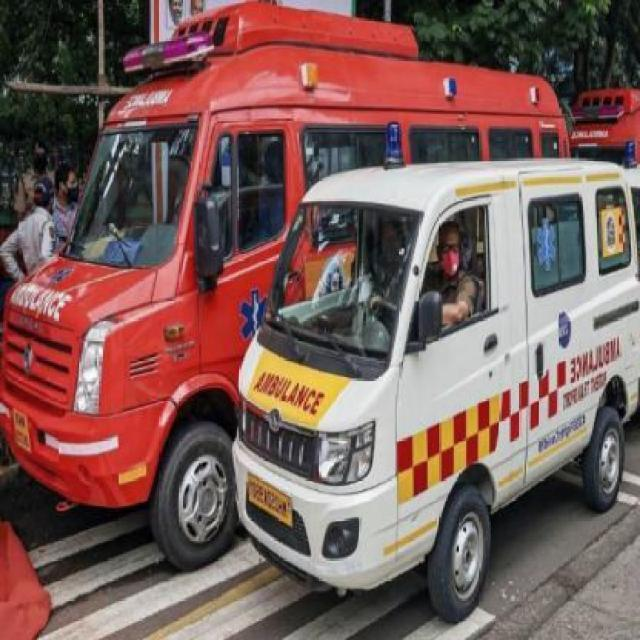emergency: (0, 4, 588, 572), (230, 153, 640, 622)
